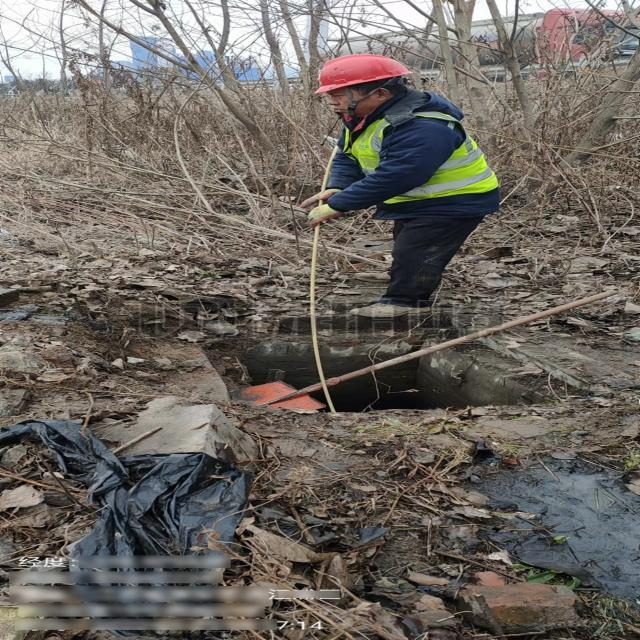Faulty: (191, 336, 596, 418)
